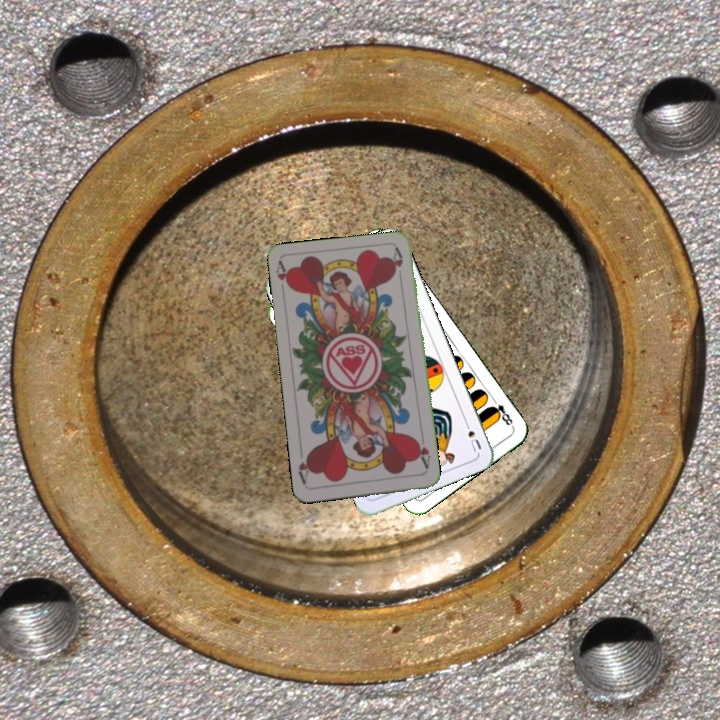E8: (486, 394, 516, 430)
HA: (272, 259, 294, 299), (412, 433, 433, 473)
SU: (460, 416, 484, 455)
